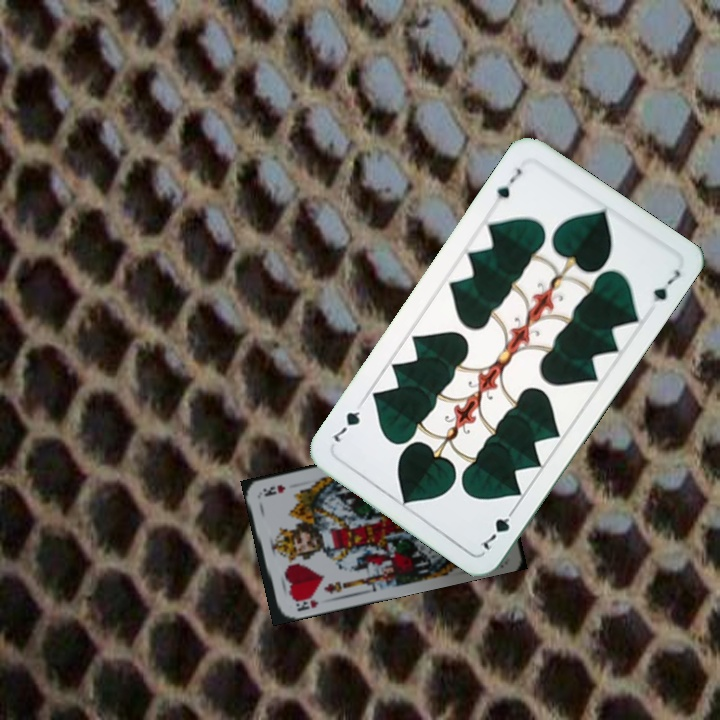G7: (476, 502, 520, 553), (492, 163, 525, 202)
HK: (292, 596, 321, 614)
